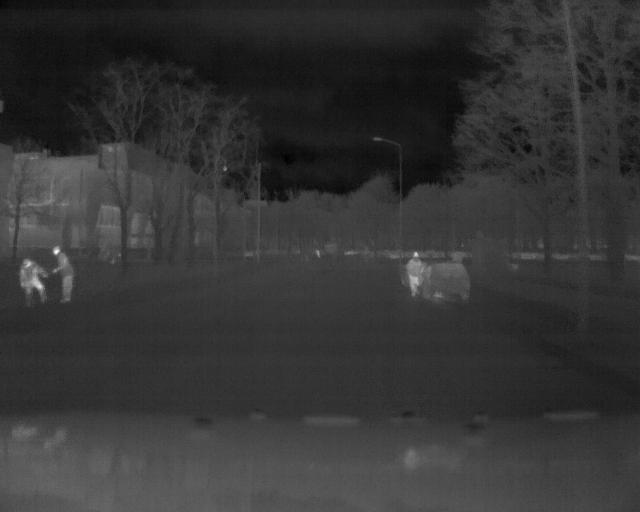car: (425, 257, 471, 303)
person: (50, 243, 82, 309), (12, 252, 47, 310), (402, 249, 421, 304)
